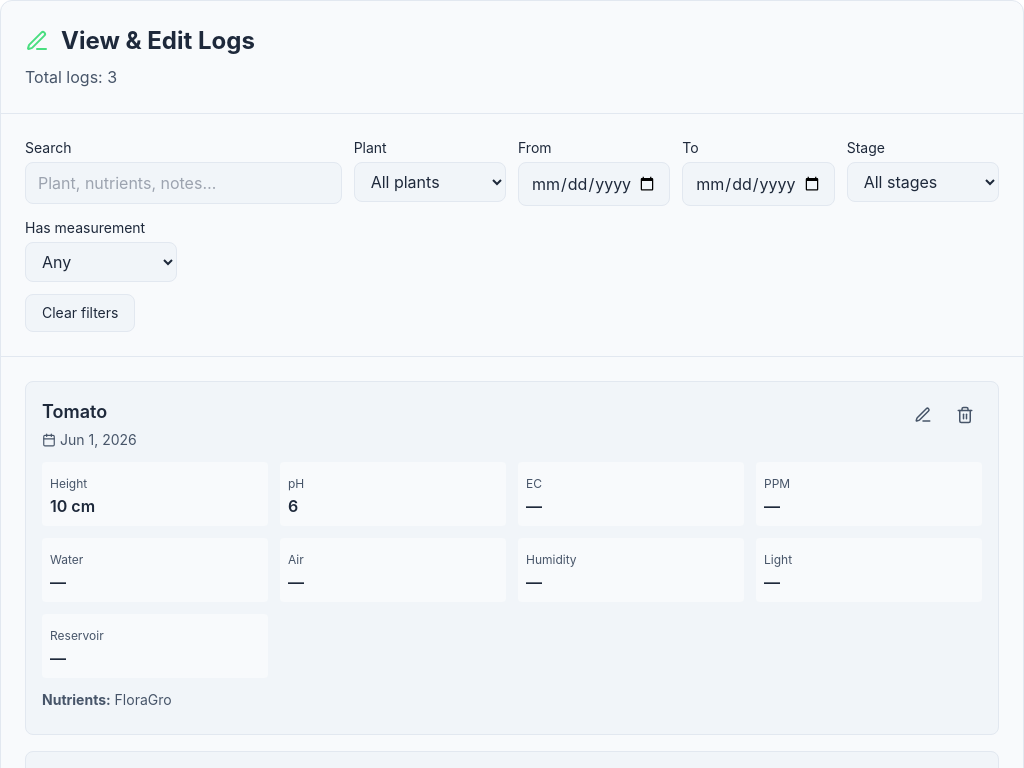
Test case: LogViewer filtering (MR-43) › typing 'basil' into the search box leaves only the basil log and updates the count
This screenshot has width=1024, height=768.
In the field named "Search logs": point(183, 183) [25,162,342,204], type "basil"
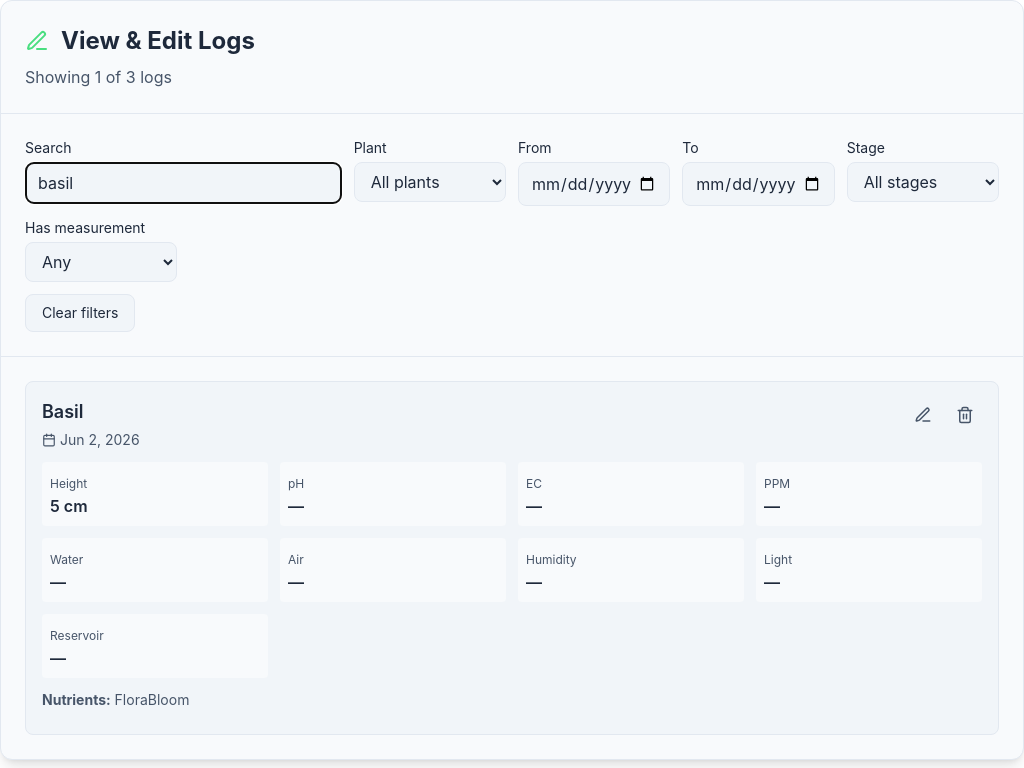
Expected: the heading "Basil" is shown, [42,401,84,422]
Expected: the text "Showing 1 of 3 logs" is shown, [25,67,172,87]
Expected: the heading "Tomato" is gone
